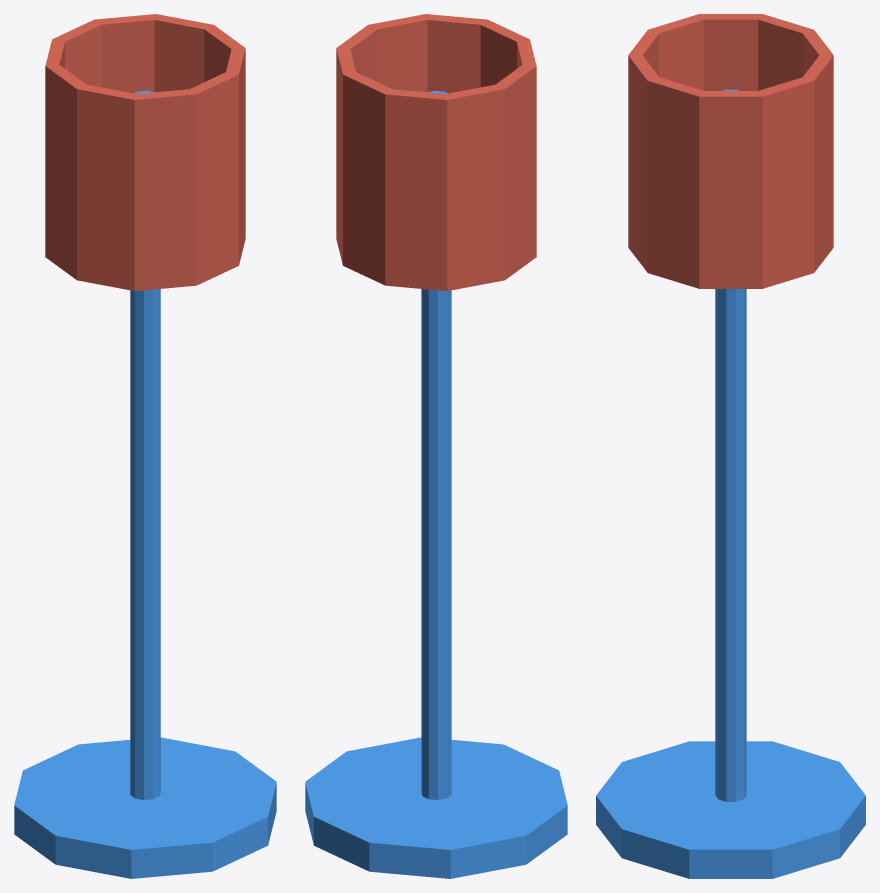
The model's file is StandingLamp.fbx.
3 renders of one model, left to right at view 1: azimuth 30°, elevation 25°; view 2: azimuth 150°, elevation 25°; view 3: azimuth 270°, elevation 25°, orthographic.
Visible parts, largest first — view 1: Cylinder; view 2: Cylinder; view 3: Cylinder.
Boxes of the visible parts, x1,y1,x2,y2 form: Cylinder: (14,14,276,878); Cylinder: (305,14,567,878); Cylinder: (596,14,865,878).
Size of the model in its own units: 86.34 by 286 by 90.78.
